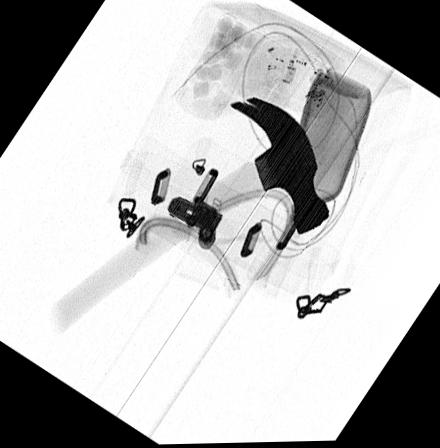Hammer: (46, 96, 331, 333)
